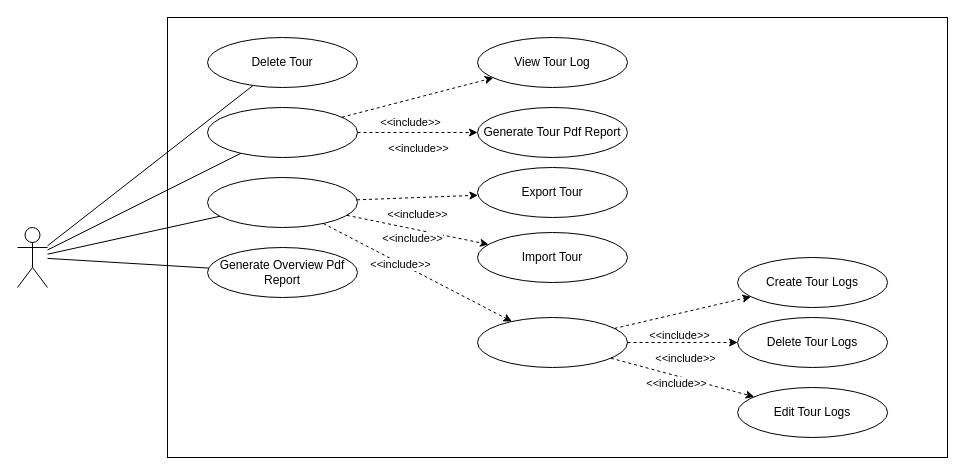
This 965x475 diagram has some shape labels left out. Here are the shapes that lost their labels. From the top down, the centre of each, then its label:
At point 282,132: "View Tour".
At point 282,202: "Create Tour".
At point 32,257: "User".
At point 552,342: "Manage Tour Logs".
